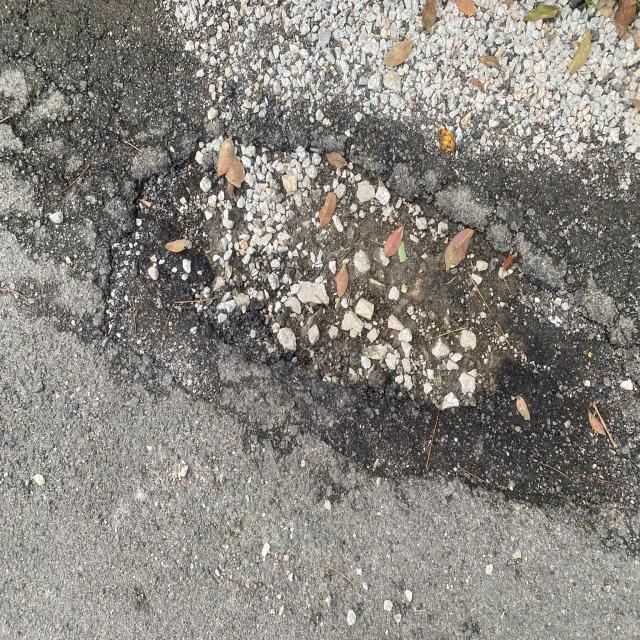Pothole: (103, 91, 640, 446)
